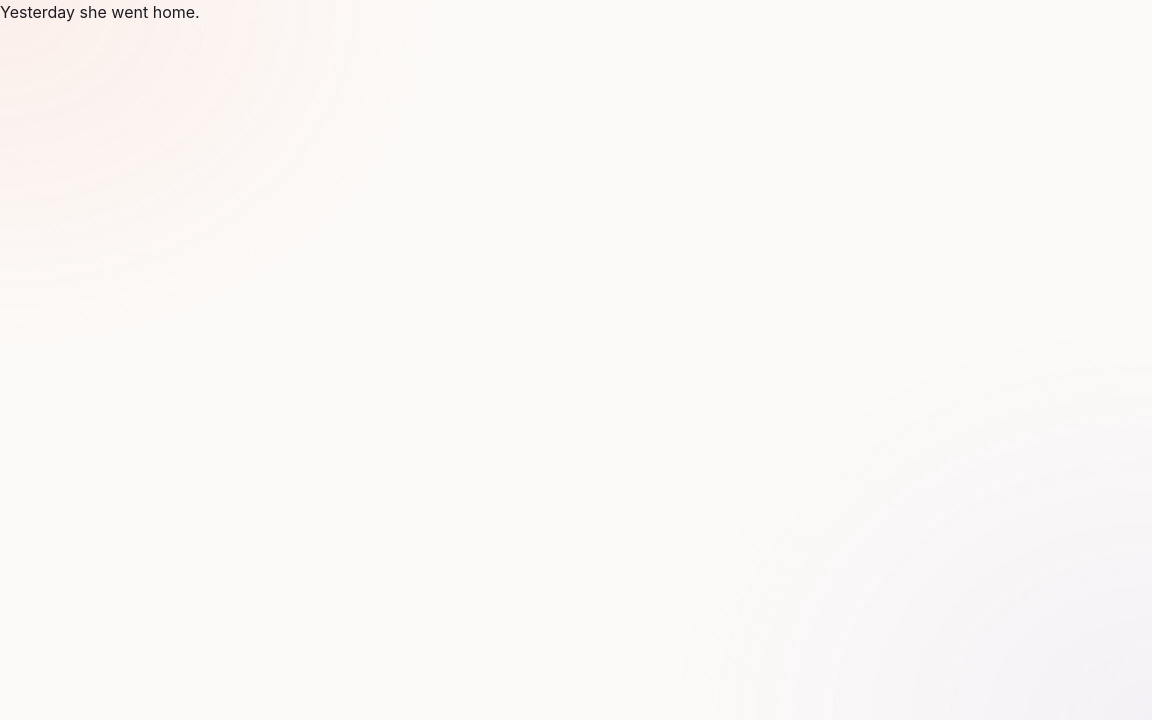
Test: WordPopup › opens right away on a tap, and stays after the pointer leaves
Step 1. Click the text "went" → (130, 12), box [111,2,148,22]
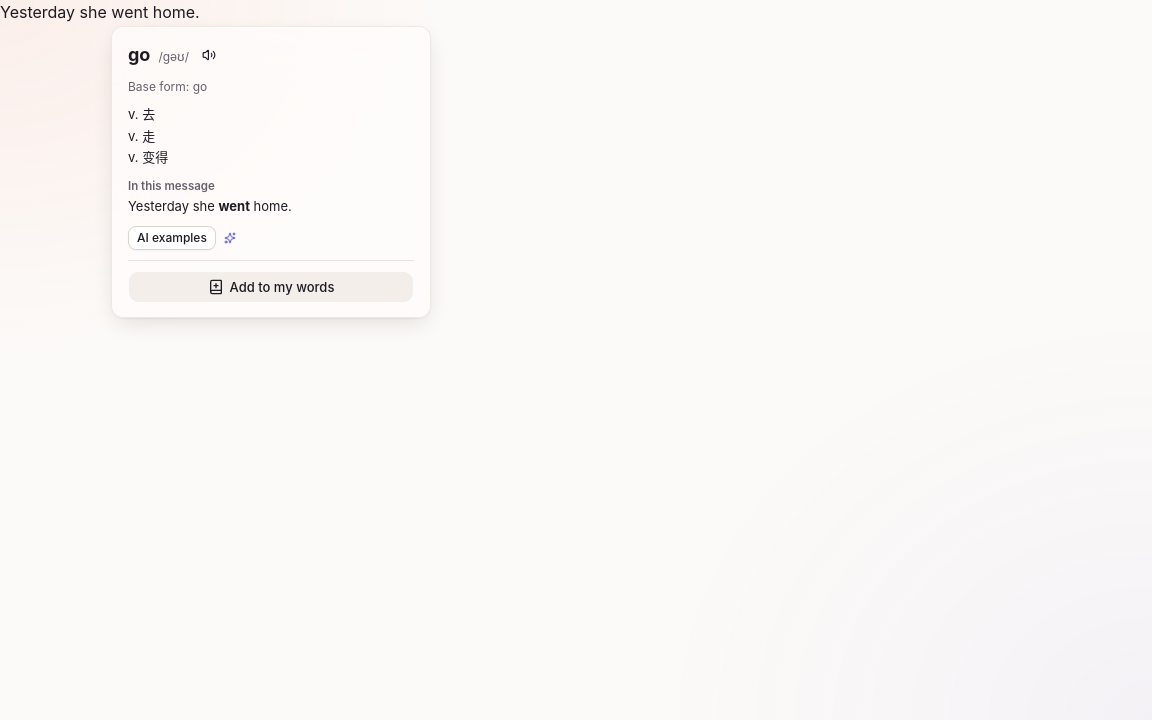
Result: the dialog with test id "word-popup" is shown at [111,26,431,318]
